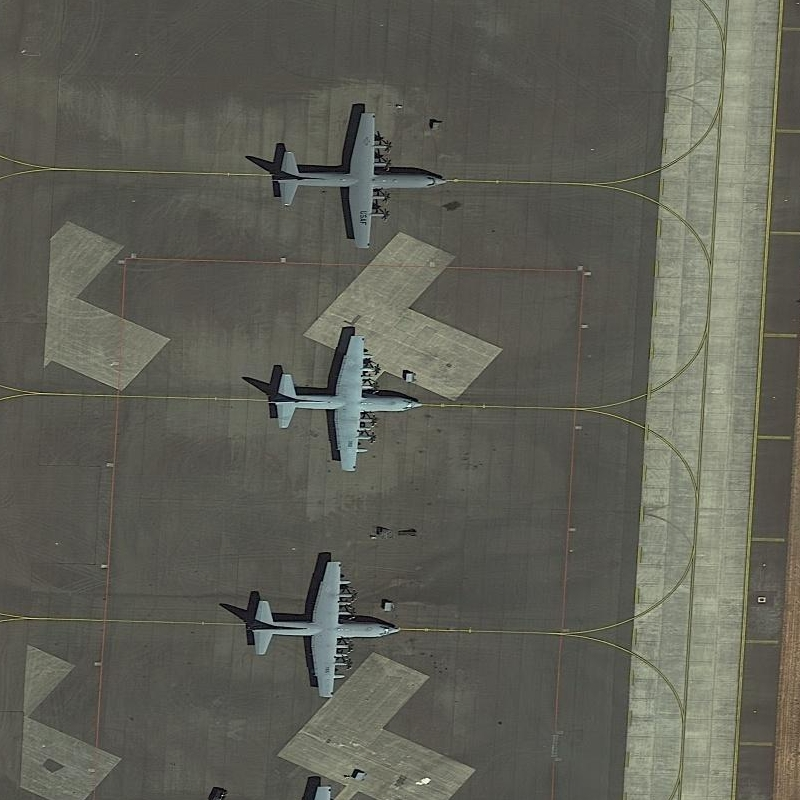A2: (263, 104, 450, 256), (264, 327, 429, 477), (238, 555, 404, 701)
